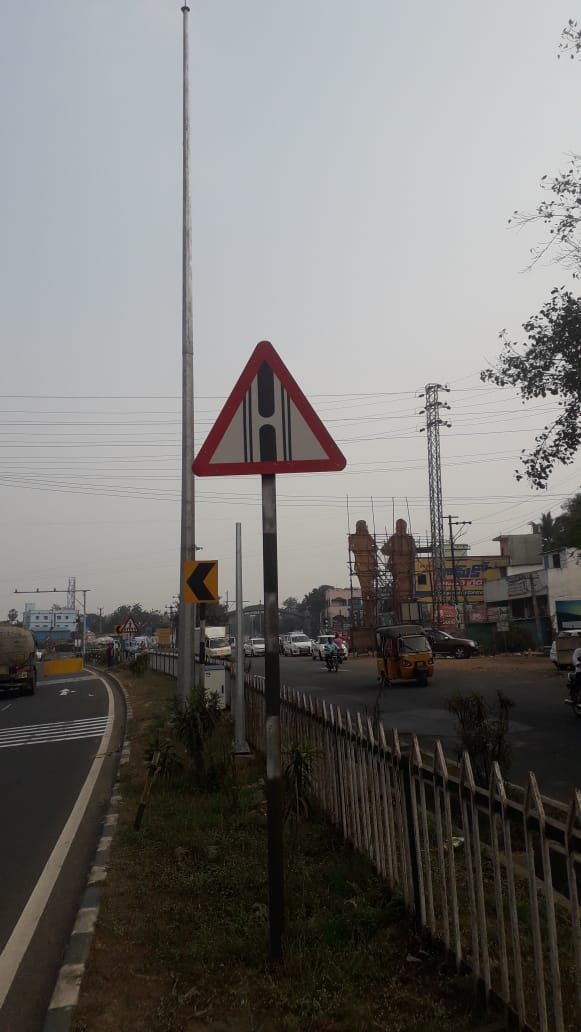highway go straight: (187, 326, 360, 520)
